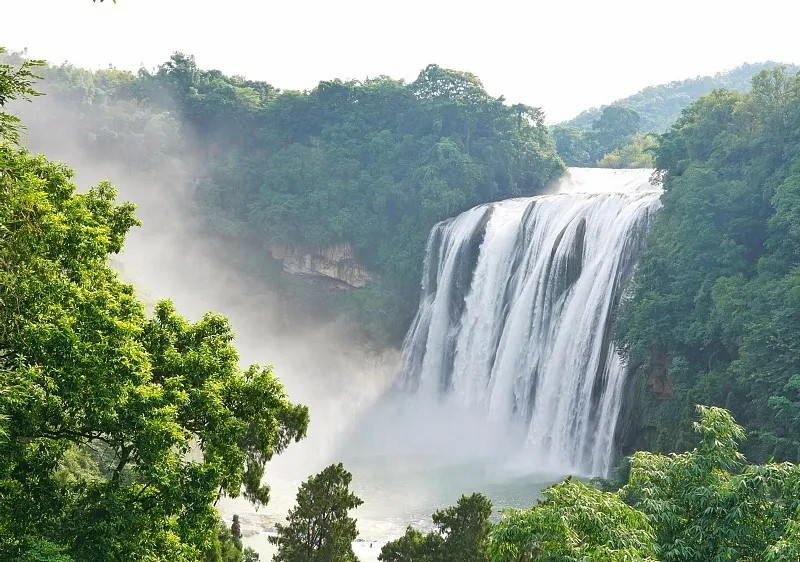Huangguoshu: (395, 166, 664, 478)
